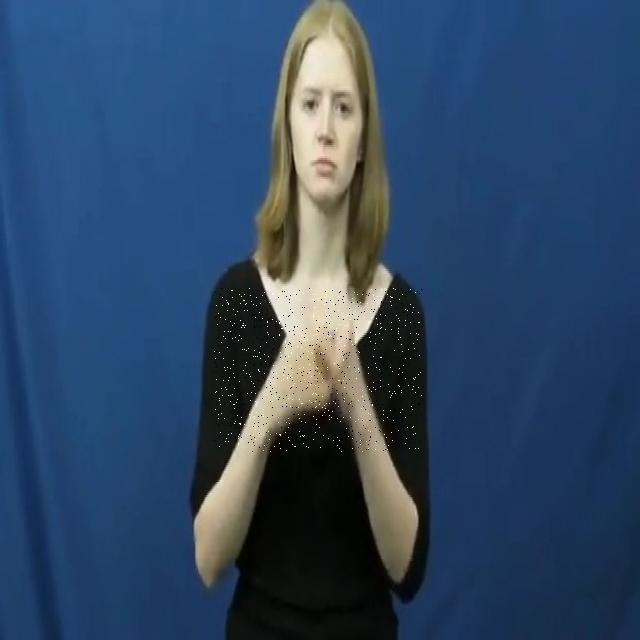additional: (214, 288, 422, 452)
